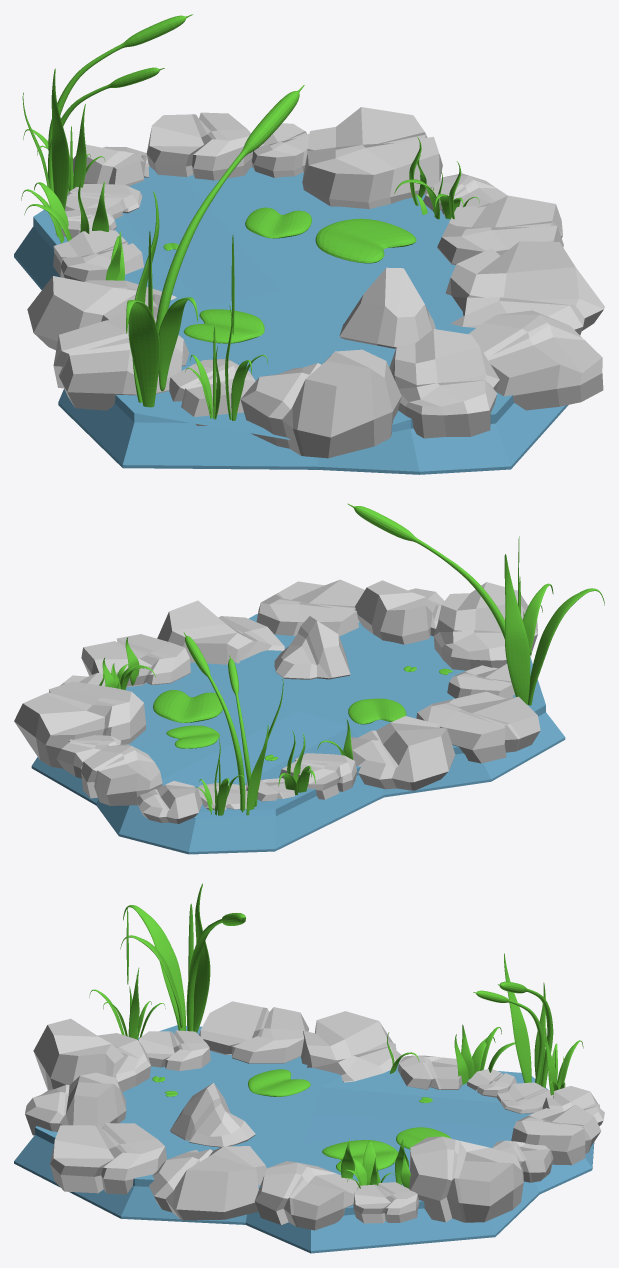
Rendered from stawik2.fbx.
3 views of the same model, one above another, from view 1: azimuth 30°, elevation 25°; view 2: azimuth 150°, elevation 25°; view 3: azimuth 270°, elevation 25° (orthographic). The views are drawn at different scales.
Parts seen in each view (by area): view 1: KAMIENIE, WODA, ROSLINY; view 2: KAMIENIE, WODA, ROSLINY; view 3: KAMIENIE, WODA, ROSLINY.
Part boxes in pixels (x1,y1,x2,y2): KAMIENIE: [27, 107, 604, 458]; WODA: [14, 166, 568, 474]; ROSLINY: [21, 14, 479, 420]; KAMIENIE: [14, 579, 540, 823]; WODA: [31, 614, 565, 854]; ROSLINY: [99, 503, 604, 815]; KAMIENIE: [25, 1001, 604, 1230]; WODA: [14, 1025, 594, 1253]; ROSLINY: [89, 883, 583, 1188].
Size of the model in its own units: 645 by 319 by 762.
